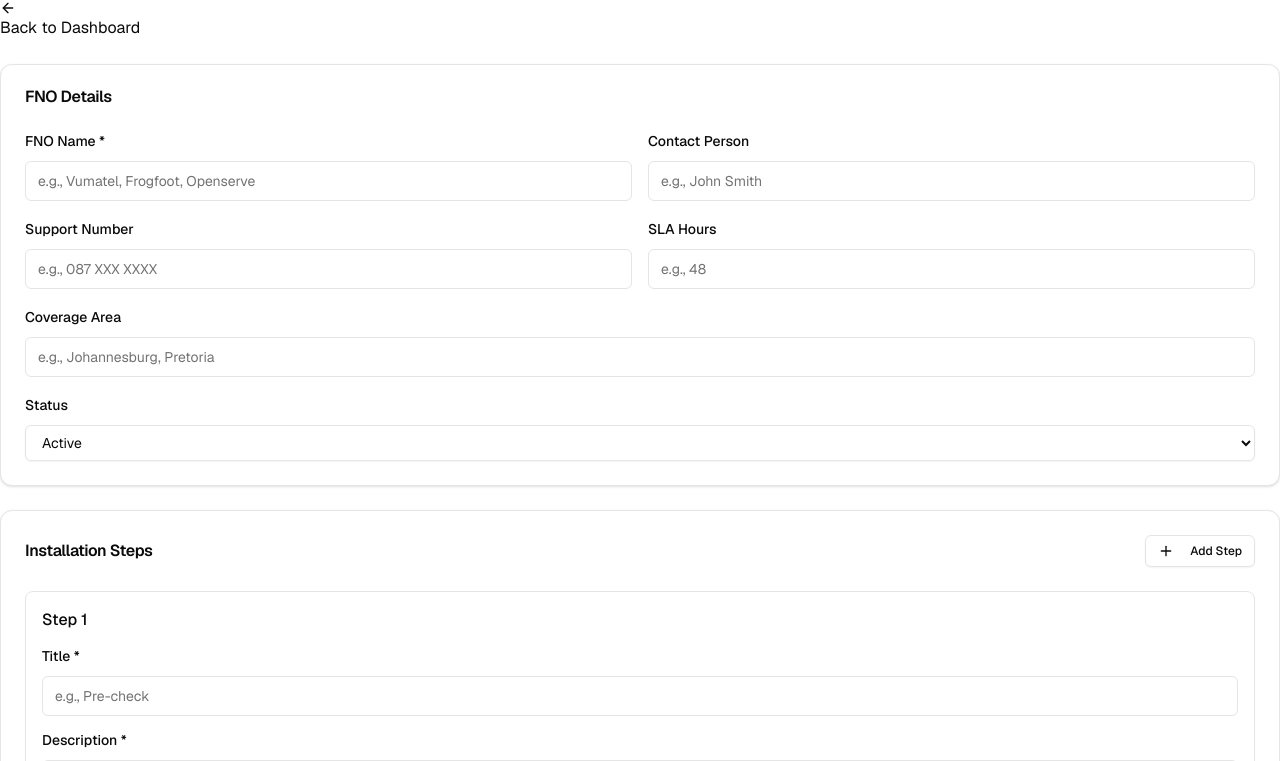
Test: FnoCreateForm Component › Installation Steps Management › should allow adding new installation steps
Click the button "Add Step" at (1200, 551), box [1145,535,1255,567]
(page scrolled)
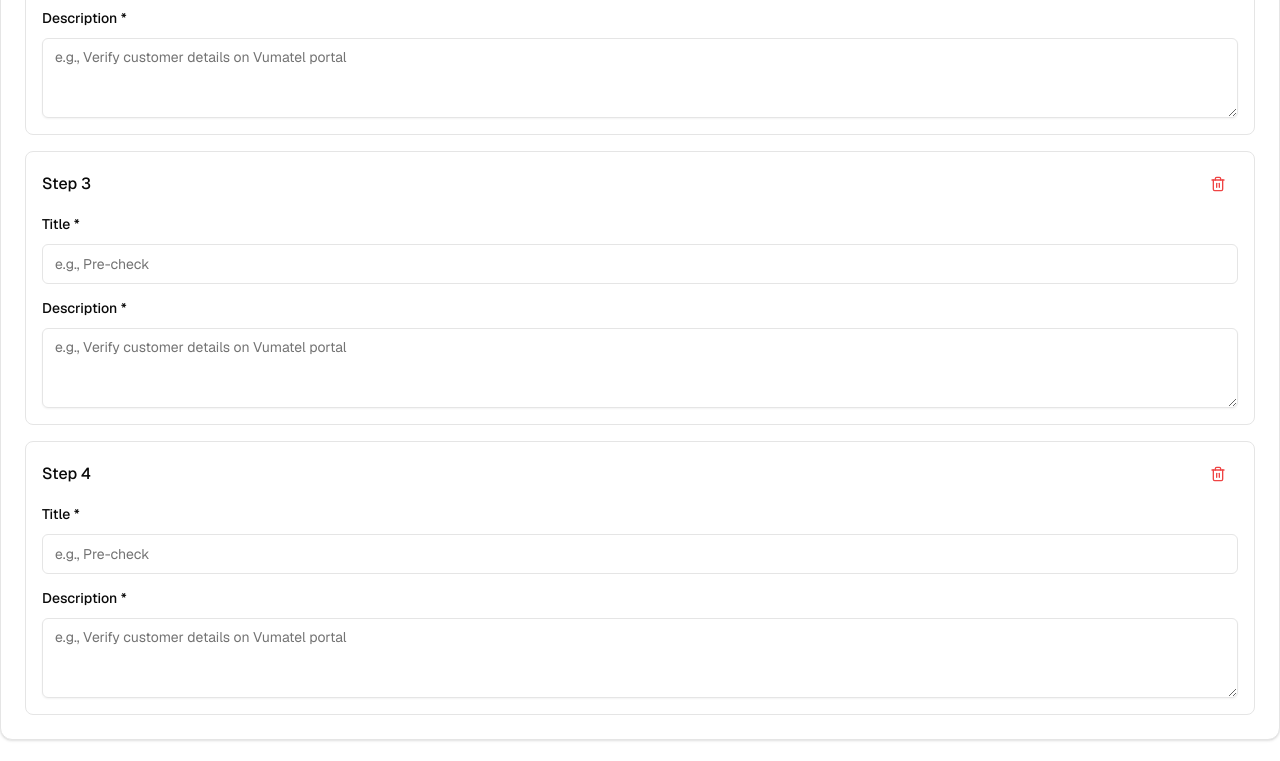
Expected: the heading "Step 4" is shown, [42,462,91,486]
